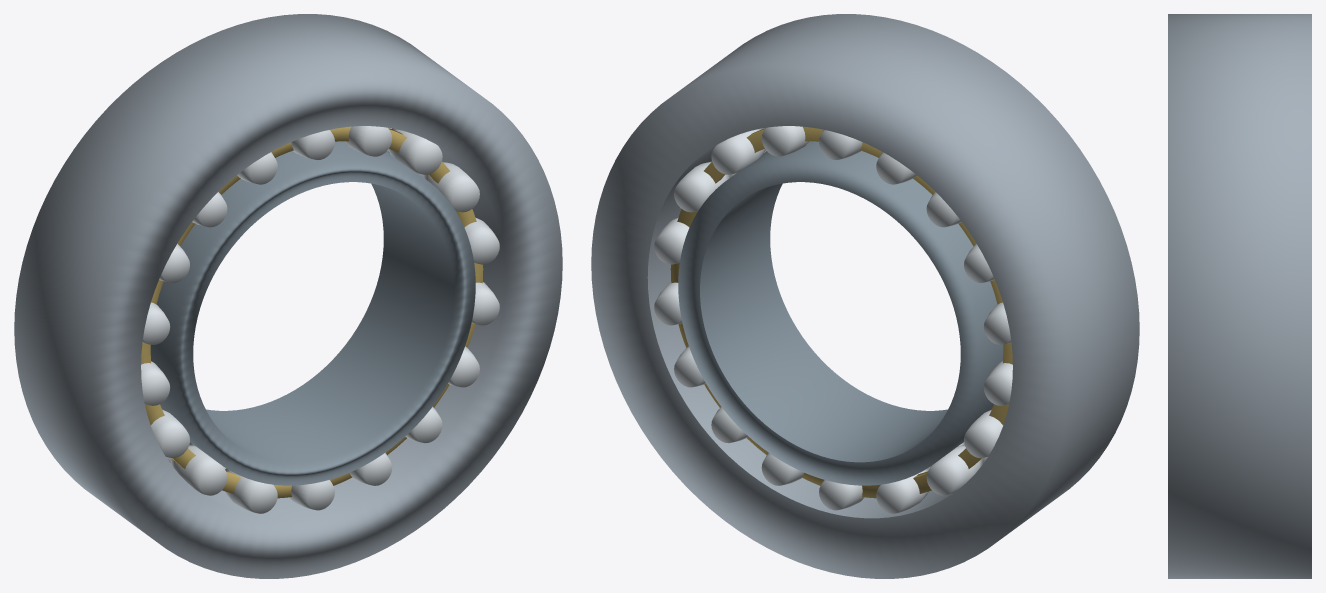
File: spherical-roller-bearing-22212e.glb
3 views of the same model, side by side, from view 1: azimuth 30°, elevation 25°; view 2: azimuth 150°, elevation 25°; view 3: azimuth 270°, elevation 25° (orthographic). The views are drawn at different scales.
Parts seen in each view (by area): view 1: SKF 22212E · 双列轴承示意; view 2: SKF 22212E · 双列轴承示意; view 3: SKF 22212E · 双列轴承示意.
Boxes of the visible parts, left/top/right/bottom form: SKF 22212E · 双列轴承示意: left=14, top=14, right=562, bottom=578; SKF 22212E · 双列轴承示意: left=591, top=14, right=1139, bottom=578; SKF 22212E · 双列轴承示意: left=1168, top=14, right=1311, bottom=578.
Bounding box in the file's own units: 1.1 × 1.1 × 0.28.
